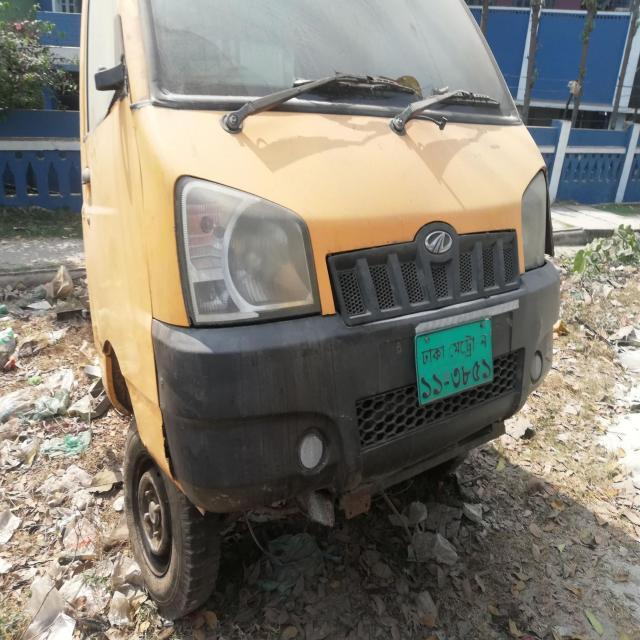numberplate: (412, 316, 495, 406)
